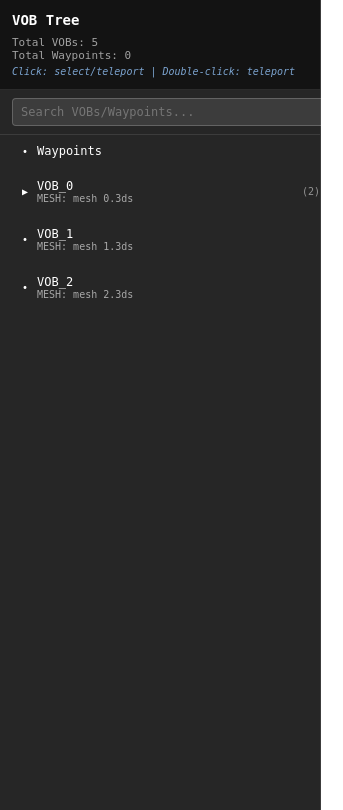
Test: VOBTree Component › Search Functionality › should filter VOBs by name
Type "VOB_0" into the field with placeholder "Search VOBs/Waypoints...".
click(169, 112); type("VOB_0")  # box [12,98,326,126]
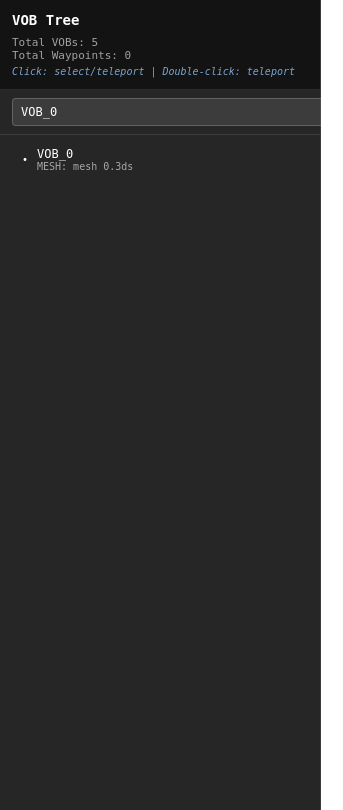
Expected: the text "VOB_0" is shown, [37,146,73,160]
Expected: the text "VOB_1" is gone
Expected: the text "VOB_2" is gone
